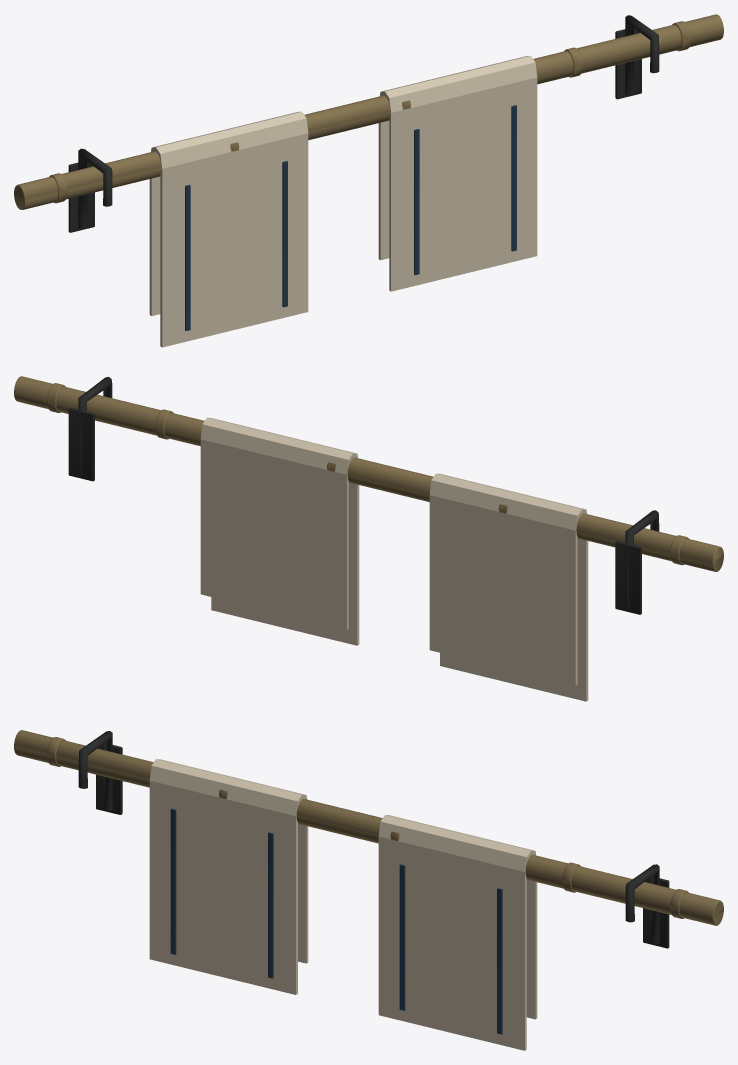
File: kominka-monohoshi-01.glb
3 renders of one model, top to bottom at view 1: azimuth 30°, elevation 25°; view 2: azimuth 150°, elevation 25°; view 3: azimuth 330°, elevation 25°, orthographic.
Visible parts, largest first — view 1: kominka-monohoshi-01; view 2: kominka-monohoshi-01; view 3: kominka-monohoshi-01.
Boxes of the visible parts, x1,y1,x2,y2 form: kominka-monohoshi-01: [14, 14, 723, 347]; kominka-monohoshi-01: [14, 376, 723, 701]; kominka-monohoshi-01: [14, 730, 723, 1050].
Bounding box in the file's own units: 1.1 × 0.3 × 0.08.
